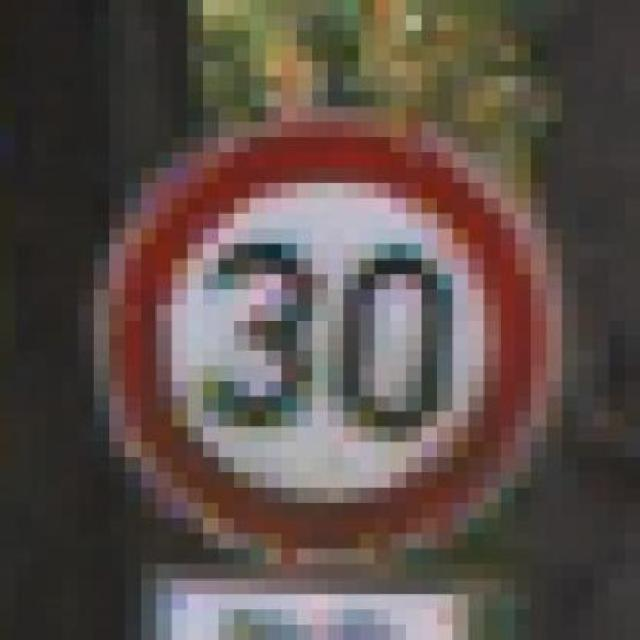forb_speed_over_30: (102, 130, 548, 564)
